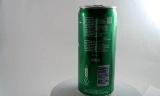sprite: (70, 4, 110, 95)
